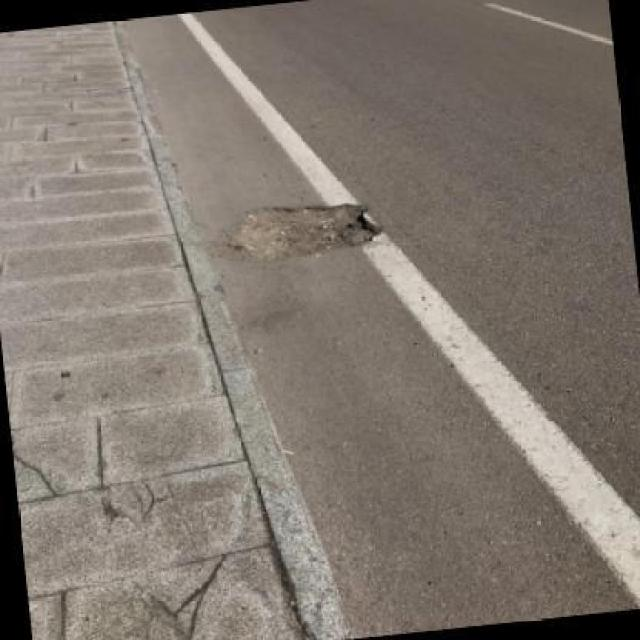pothole: (226, 205, 382, 263)
